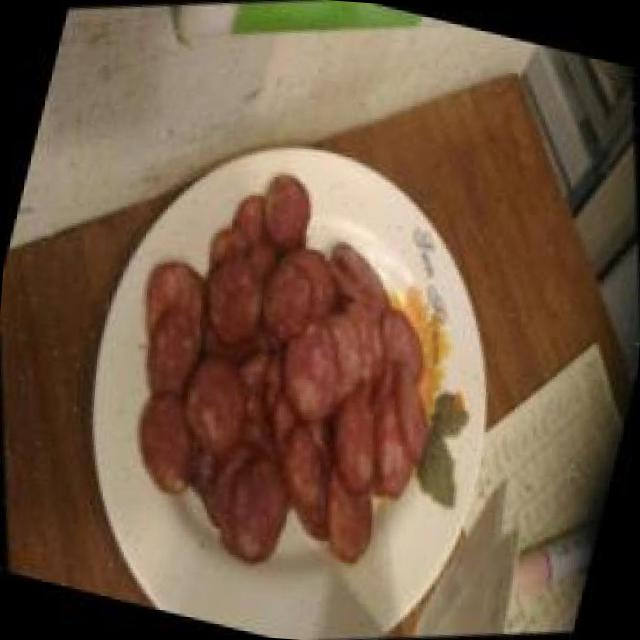chinese_sausage: (60, 127, 517, 628)
